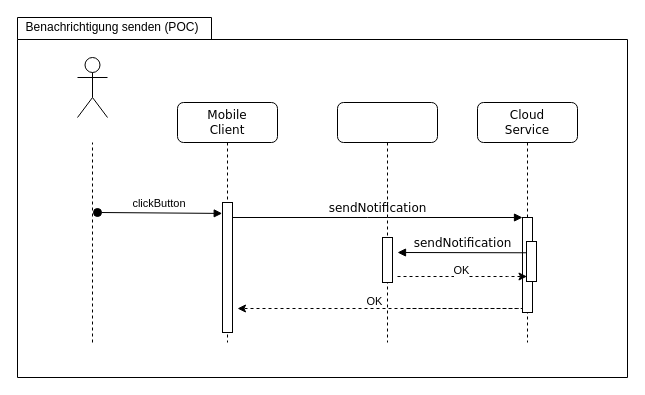
Image size: 645x395. Some labels were removed from this diagram. Here are the shapes that lost their labels. From the top down, the centre of each, then its label:
[92,87]: Praxismitarbeiter
[387,222]: Messaging Service
